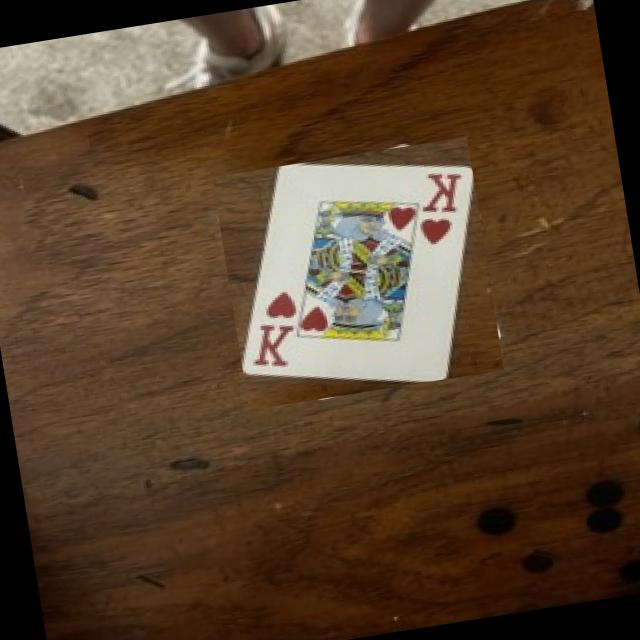King of hearts: (243, 164, 472, 378)
